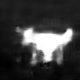plane: (14, 24, 80, 67)
